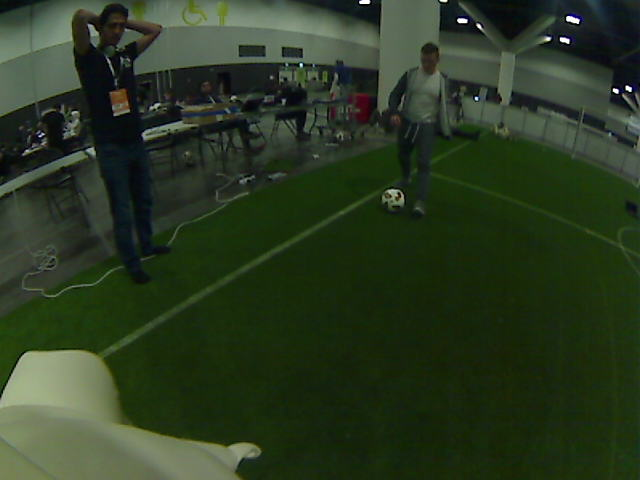ball: (374, 179, 414, 219)
goalpost: (569, 118, 580, 159)
